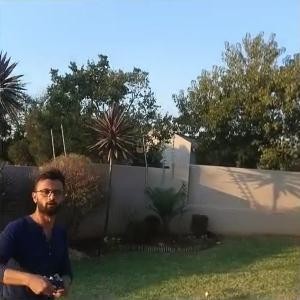follow: (0, 154, 79, 299)
